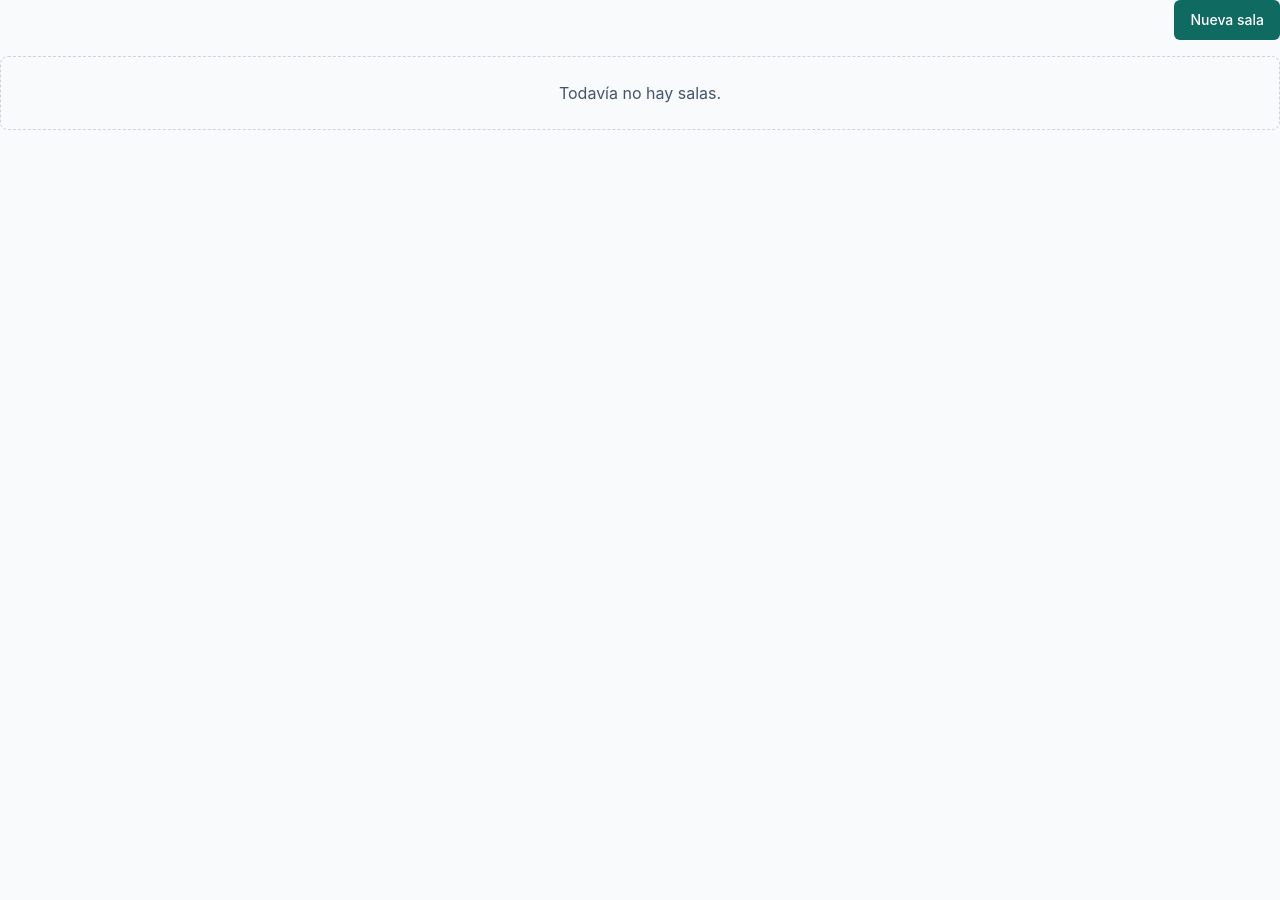
Test case: RoomsTab › duplicate_name aparece junto al campo Nombre
Click the button "Nueva sala": (1227, 20) [1174,0,1279,40]
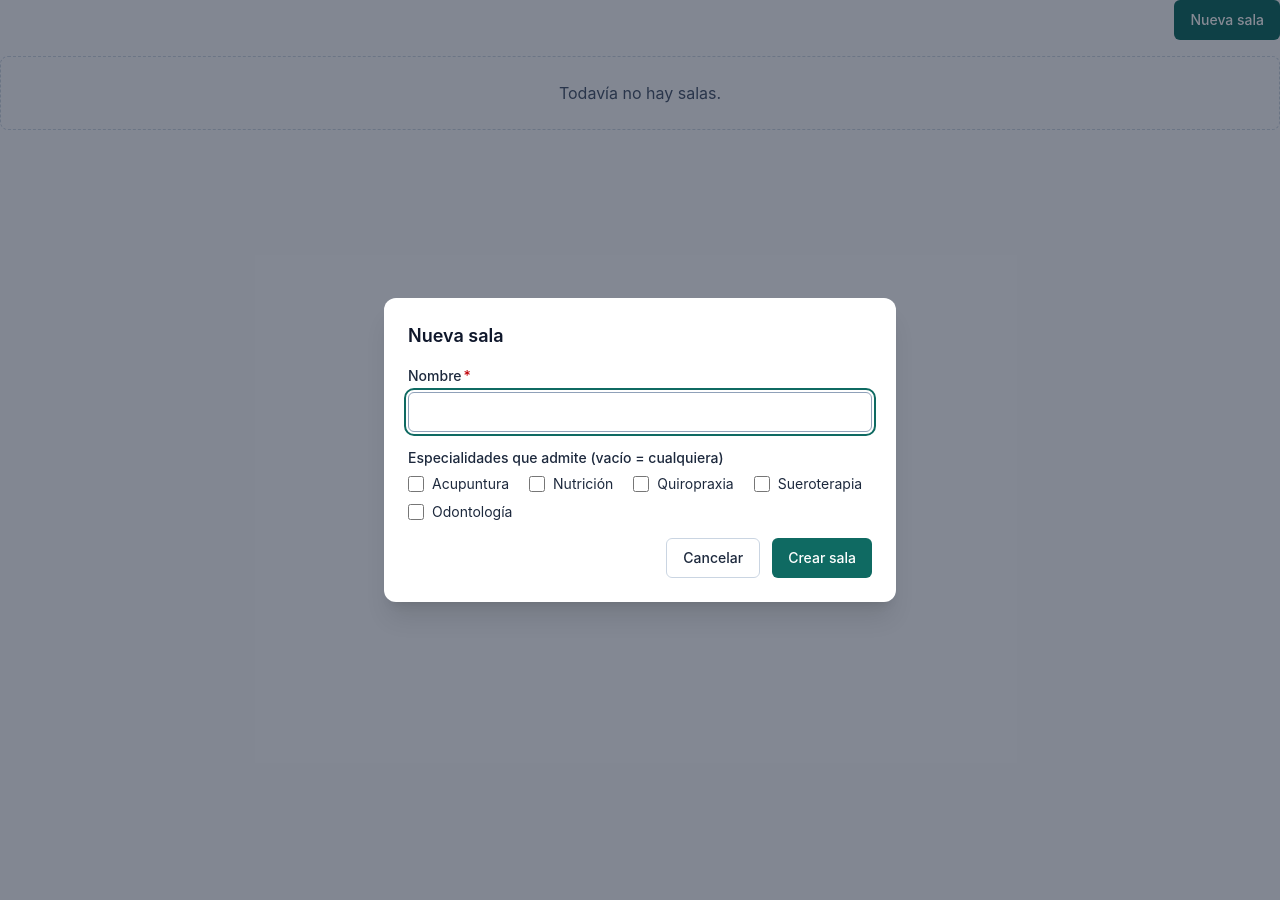
In the field labelled "Nombre*": (640, 412) [408,392,872,432], type "E2E Sala 1"
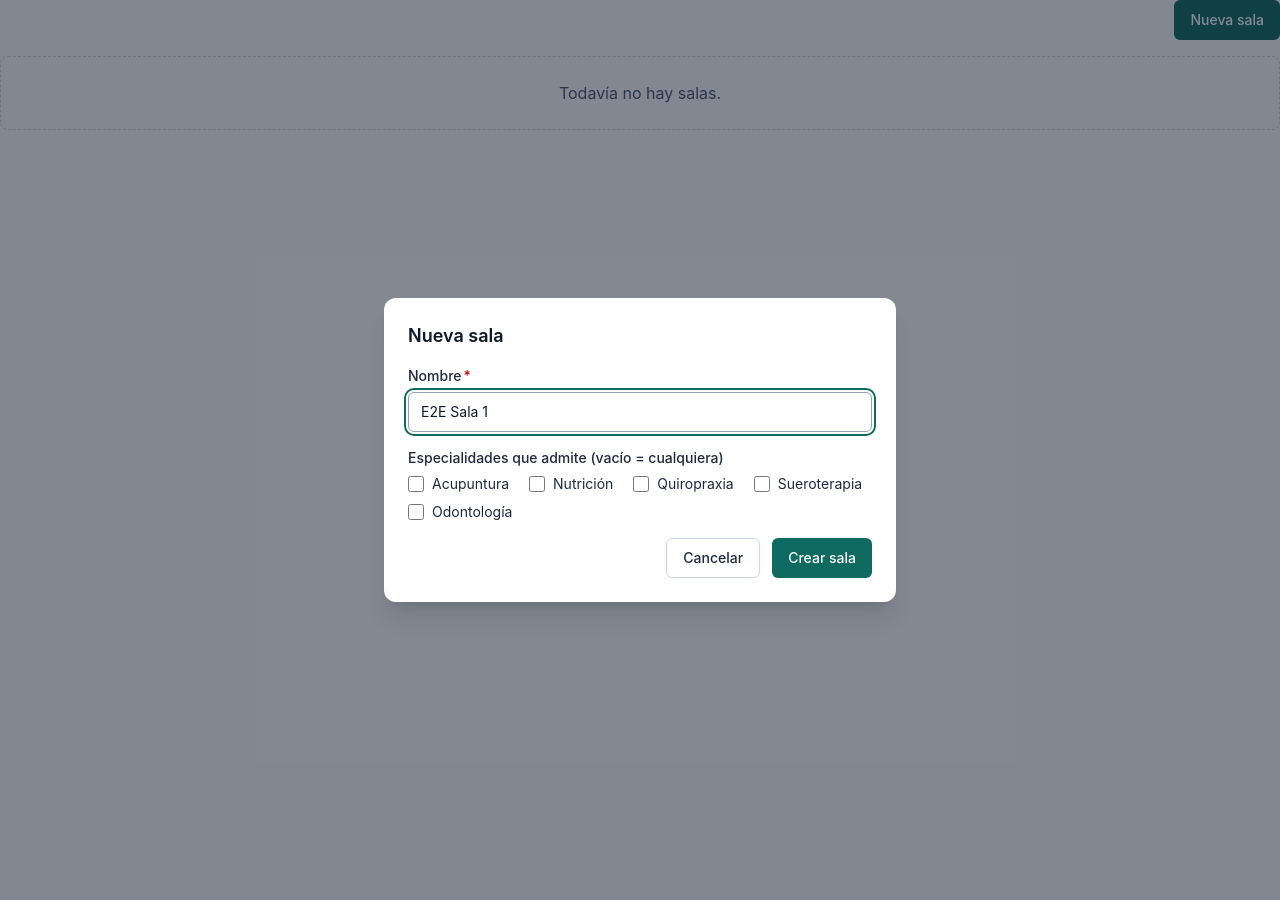
Click the button "Crear sala": (822, 558) [772,538,872,578]
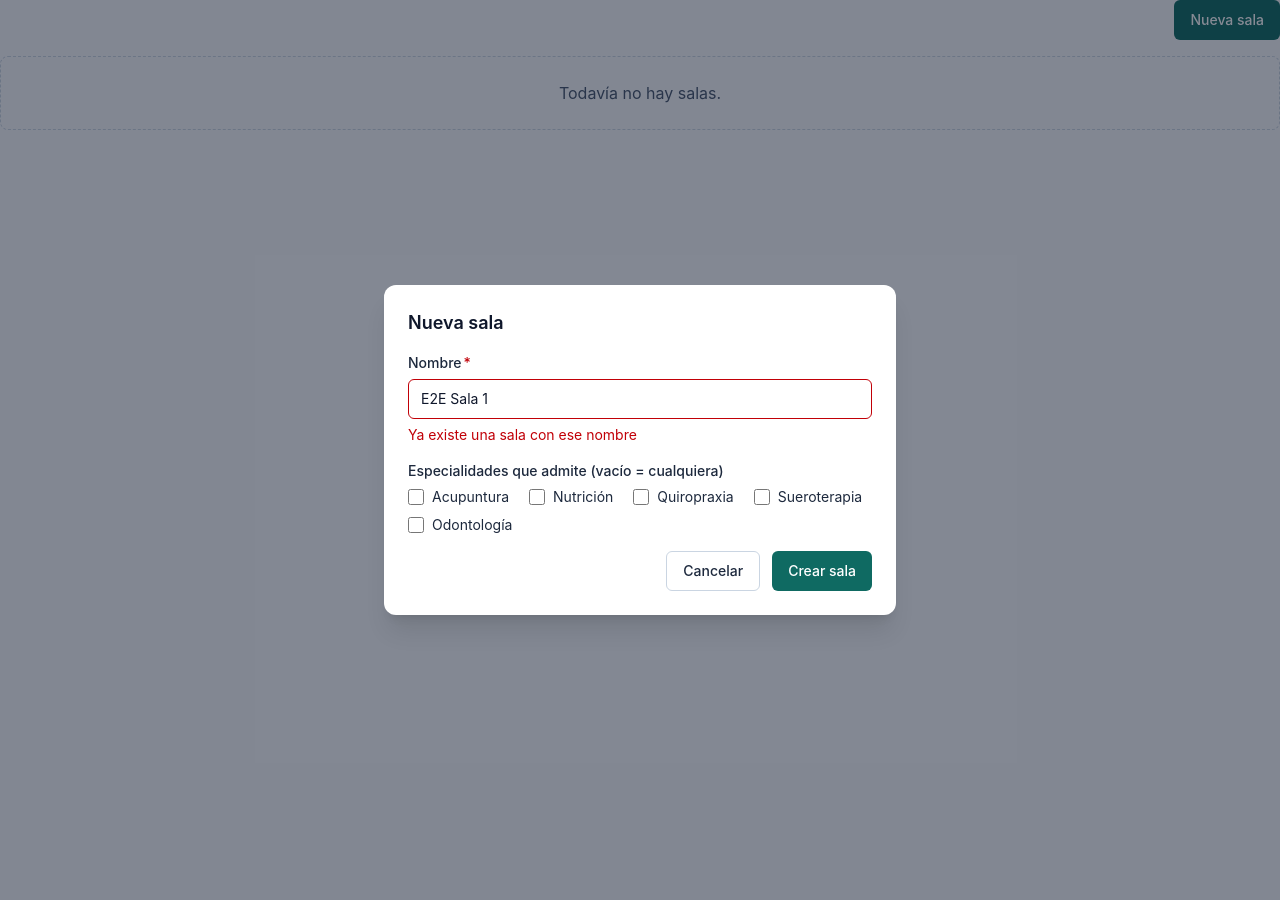
Result: the text "Ya existe una sala con ese nombre" is shown at [408,426,637,443]
